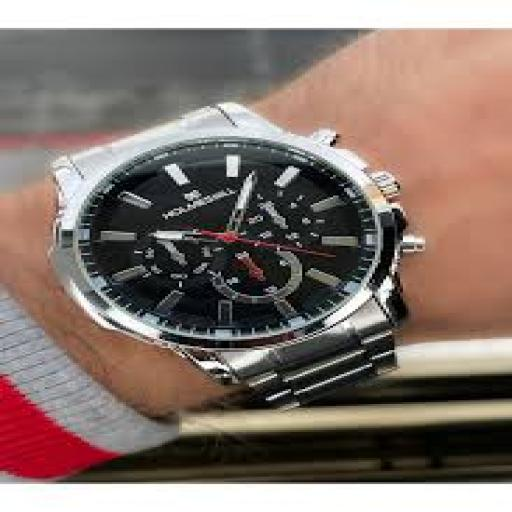KolSaati: (18, 93, 470, 422)
